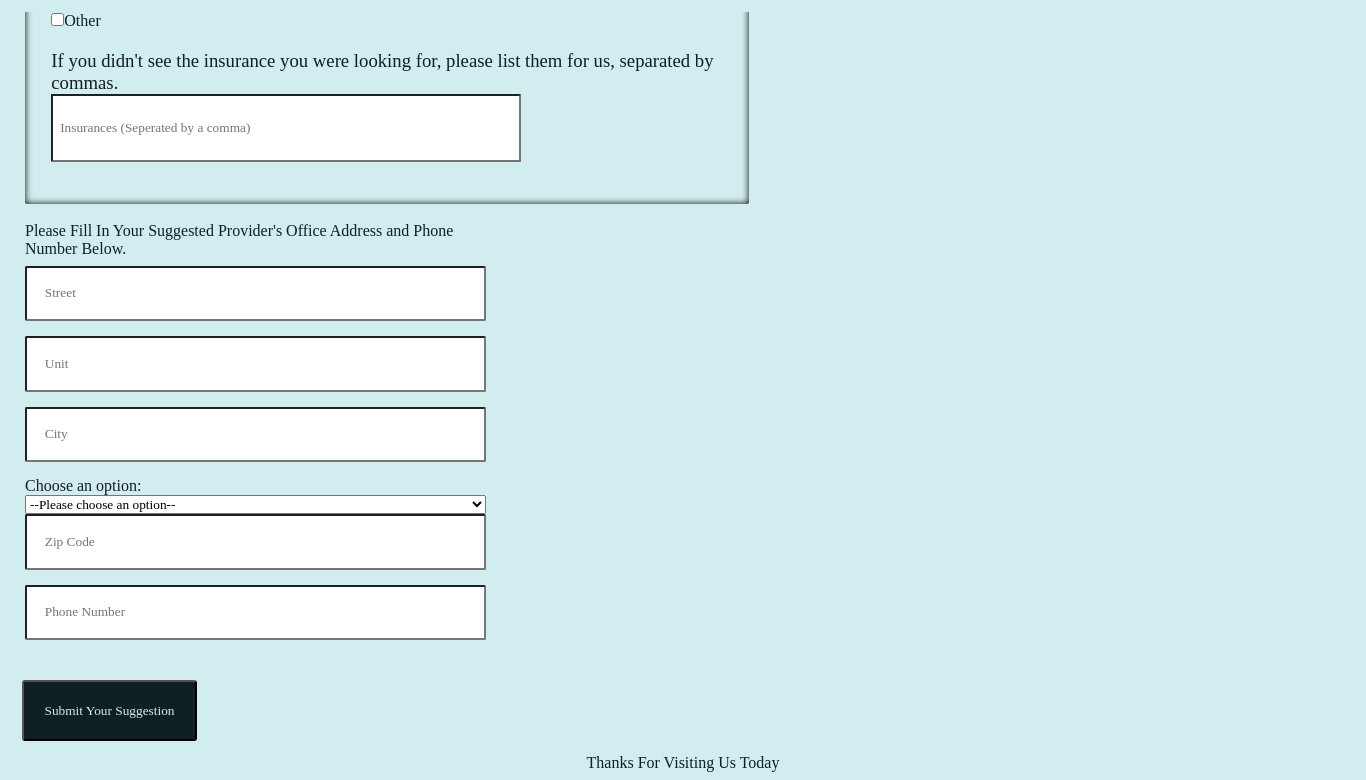
it: ContributionForm View › Should sadly return an error message if the user does not fill out all input fields
Click the button with class "contribution-button".
click(110, 711)  # box 22,680 -> 197,741
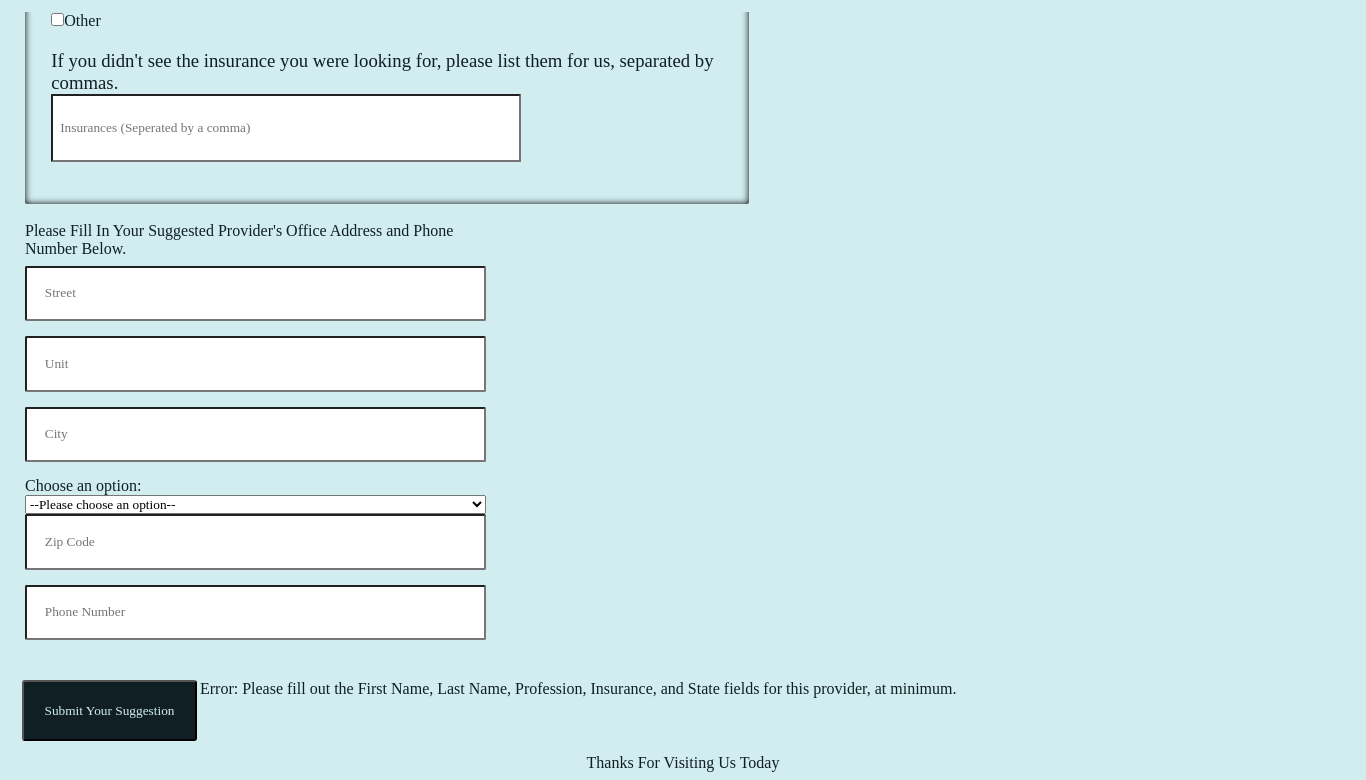
Expected: the element with class "error-msg" shows "Error: Please fill out the First Name, Last Name, Profession, Insurance, and State fields for this provider, at minimum.", 200,680 -> 957,697
